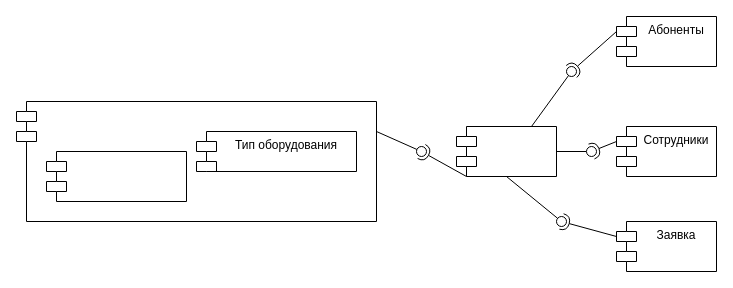
The diagram is 733 pixels wide and 288 high, and some of its shapes have lost their labels. Here are the shapes that lost their labels. From the top down, the centre of each, then its label:
pixel 506 151: Обращение
pixel 116 176: Оборудование
